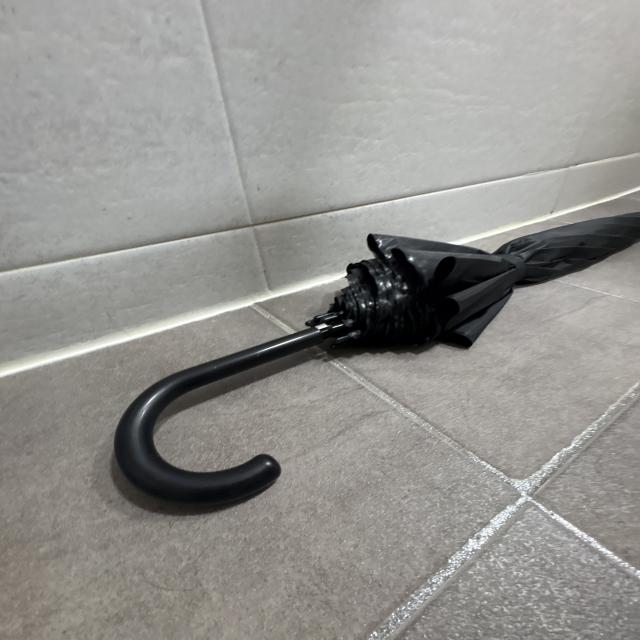umbrella: (116, 213, 640, 507)
